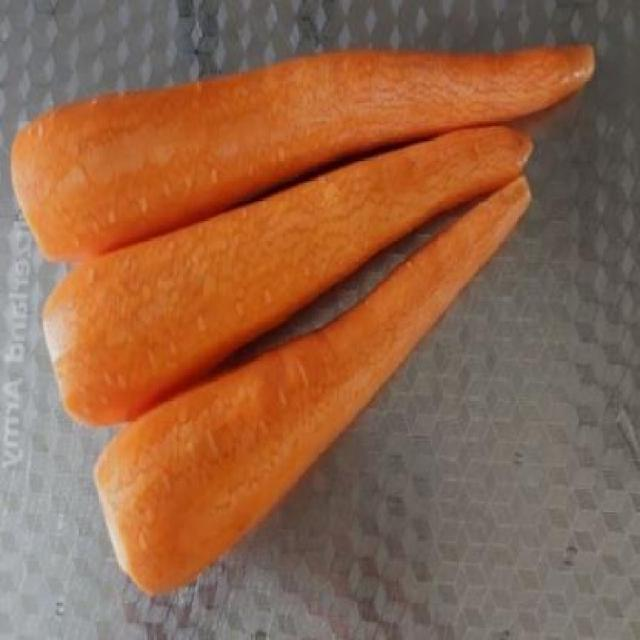carrot: (93, 177, 534, 613), (42, 116, 545, 434), (11, 36, 605, 267)
